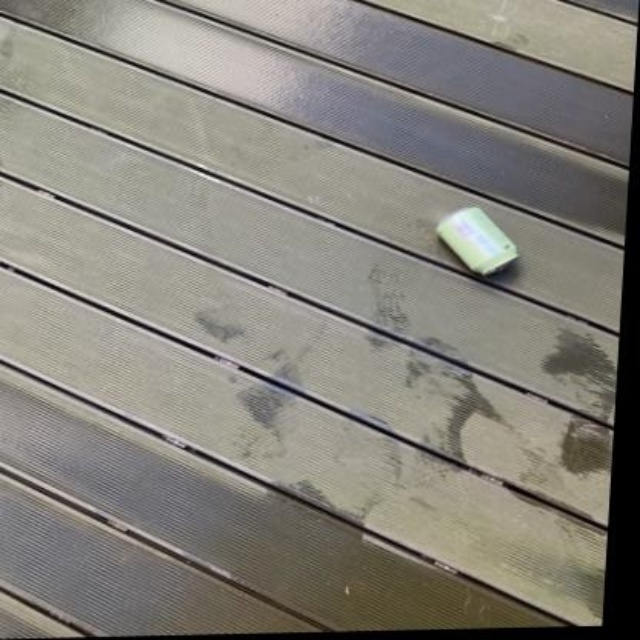trash: (437, 208, 515, 274)
